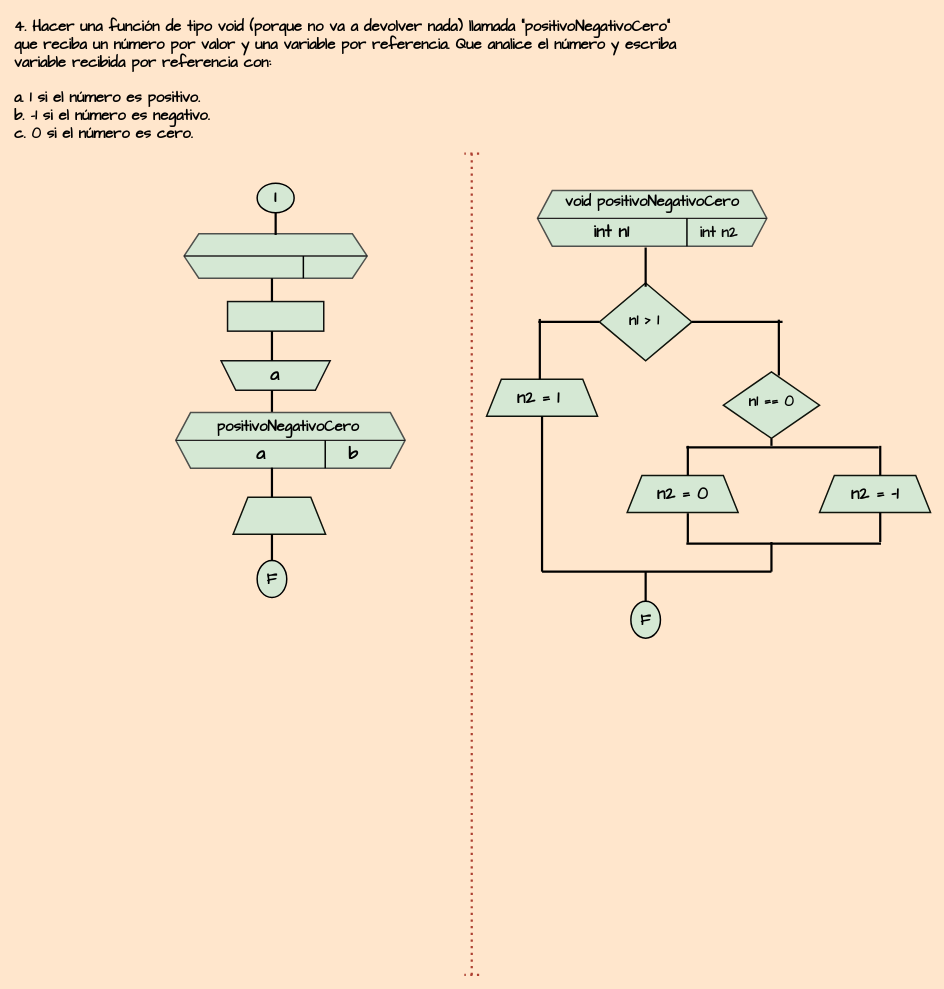
Some shapes in this 944 by 989 pixel diagram are drawn without their labels. The centre of each missing label's shape, as x and y in pixels:
"a, b" goes at point 279,515.
"a, b = 10" goes at point 275,316.
"void main" goes at point 275,256.
